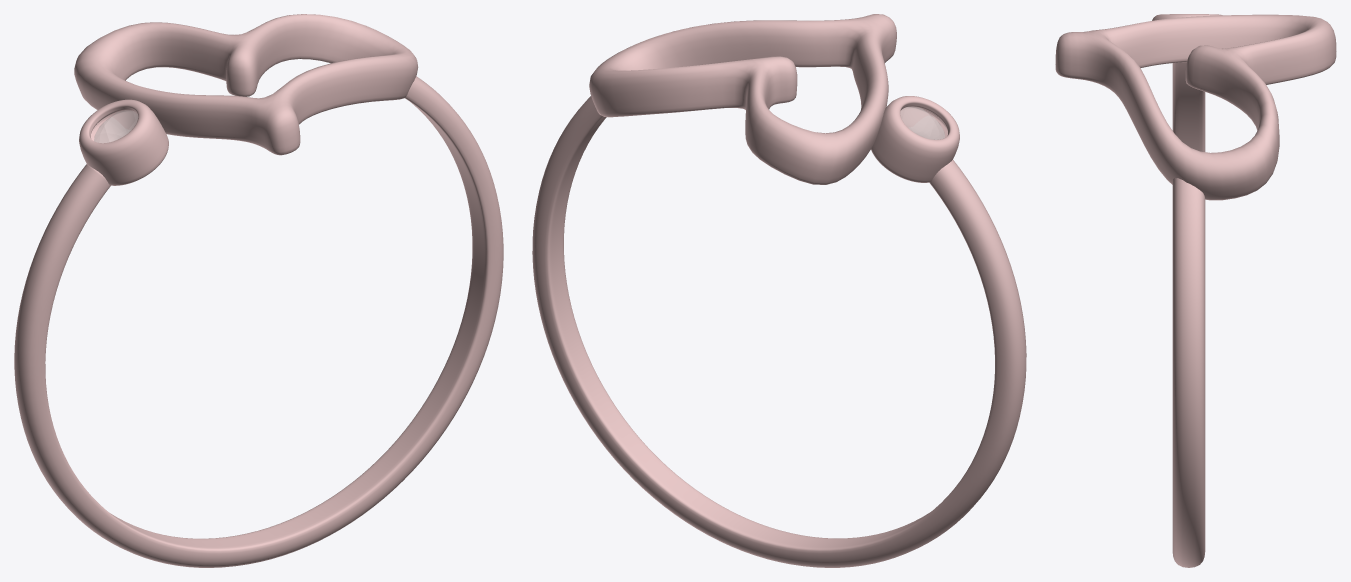
Rendered from HeartRing.gltf.
3 renders of one model, left to right at view 1: azimuth 30°, elevation 25°; view 2: azimuth 150°, elevation 25°; view 3: azimuth 270°, elevation 25°, orthographic. The views are drawn at different scales.
Parts seen in each view (by area): view 1: Ring, hearth, diamondContainer, diamond; view 2: Ring, hearth, diamondContainer, diamond; view 3: hearth, Ring.
Boxes of the visible parts, x1=… form: Ring: x1=14, y1=76, x2=503, y2=567; hearth: x1=74, y1=14, x2=418, y2=155; diamondContainer: x1=79, y1=99, x2=168, y2=185; diamond: x1=94, y1=110, x2=137, y2=142; Ring: x1=532, y1=96, x2=1026, y2=567; hearth: x1=589, y1=14, x2=896, y2=184; diamondContainer: x1=871, y1=96, x2=959, y2=182; diamond: x1=900, y1=107, x2=944, y2=139; hearth: x1=1055, y1=14, x2=1336, y2=200; Ring: x1=1172, y1=62, x2=1205, y2=567.
Size of the model in its own units: 1.63 by 1.63 by 0.8404.
